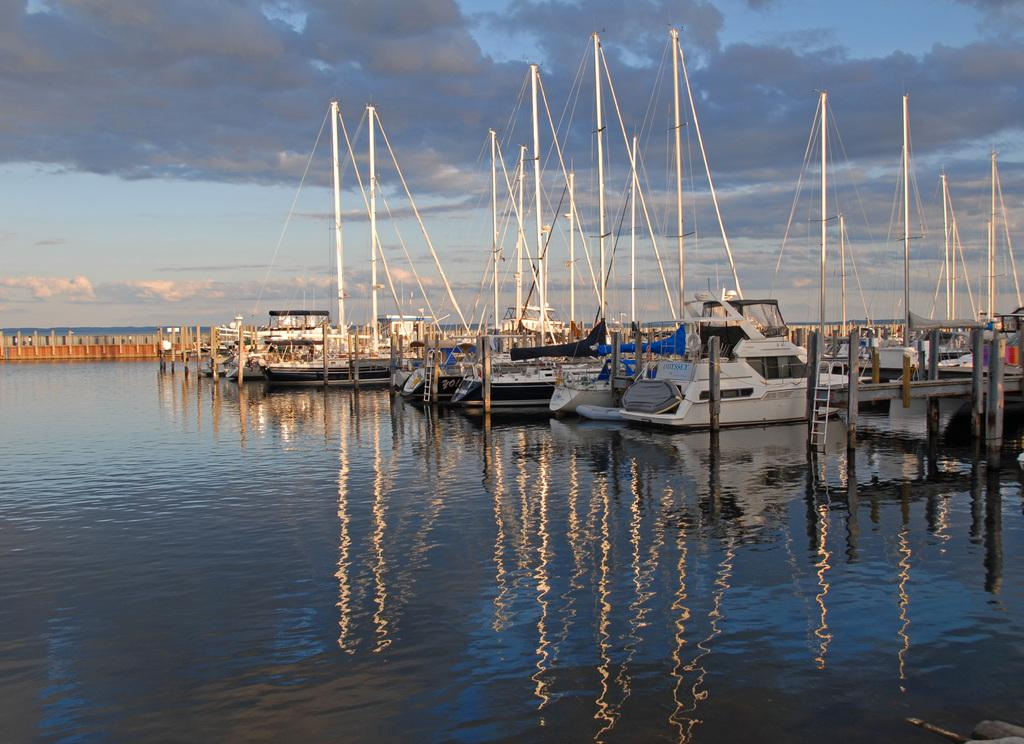PassengerShip: (608, 288, 866, 438)
